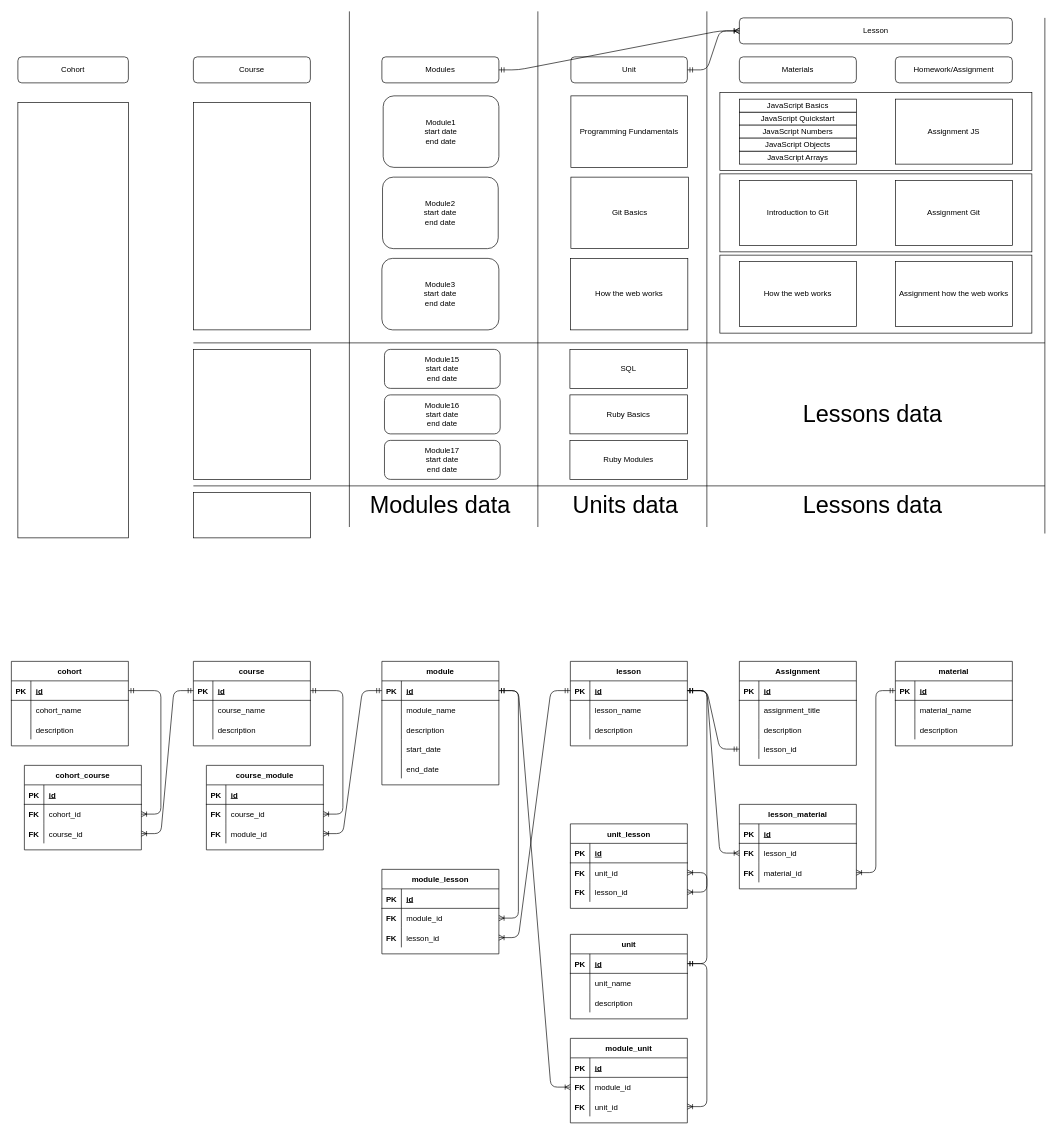
The diagram is 1057 pixels wide and 1134 high, and some of its shapes have lost their labels. The shapes that lost their labels are listed below. From the top down, each one's centre as x and y in pixels, then its label:
the point at 251,216: Intro To programming
the point at 72,320: High Noon
the point at 251,414: Ruby on rails
the point at 251,515: React
